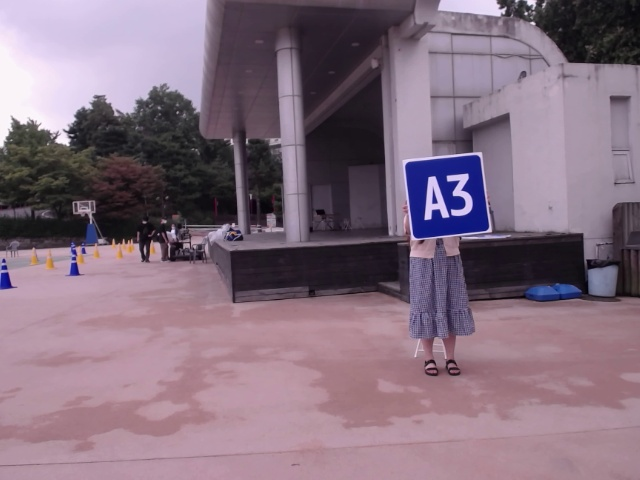delivery_a3: (404, 153, 491, 239)
